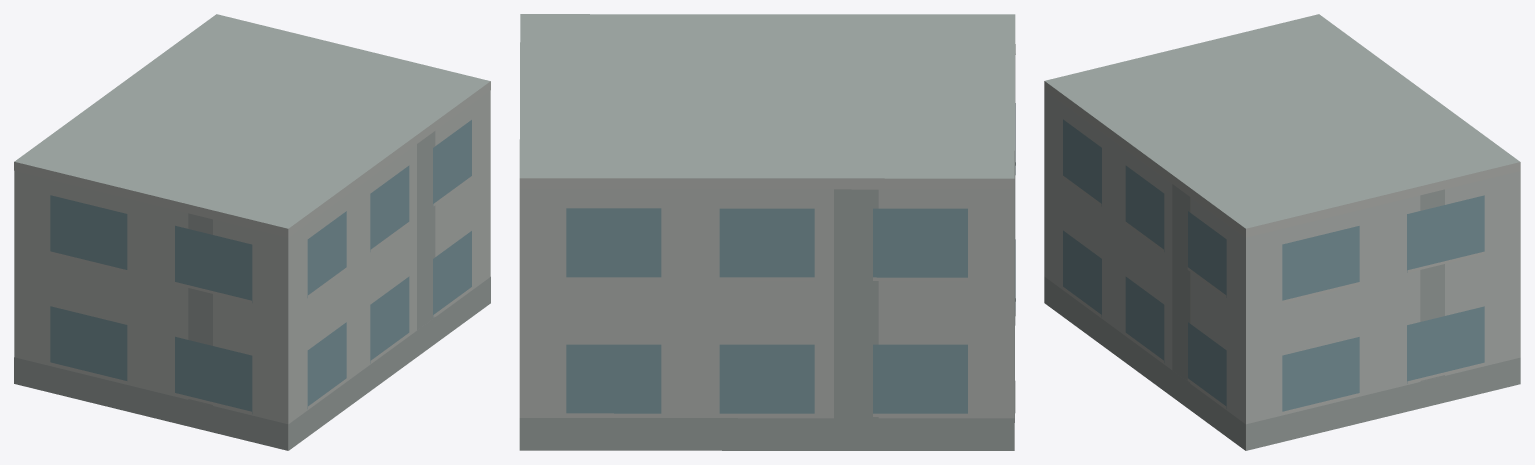
File: residential-adc4a5aa-8b27-4908-956a-49089783e18d.glb
3 renders of one model, left to right at view 1: azimuth 30°, elevation 25°; view 2: azimuth 150°, elevation 25°; view 3: azimuth 270°, elevation 25°, orthographic. The views are drawn at different scales.
Parts seen in each view (by area): view 1: residential-adc4a5aa-8b27-4908-956a-49089783e18d.tmp; view 2: residential-adc4a5aa-8b27-4908-956a-49089783e18d.tmp; view 3: residential-adc4a5aa-8b27-4908-956a-49089783e18d.tmp.
Part boxes in pixels (bbox=[...]): residential-adc4a5aa-8b27-4908-956a-49089783e18d.tmp: bbox=[14, 14, 490, 450]; residential-adc4a5aa-8b27-4908-956a-49089783e18d.tmp: bbox=[519, 14, 1015, 450]; residential-adc4a5aa-8b27-4908-956a-49089783e18d.tmp: bbox=[1044, 14, 1520, 450].
Size of the model in its own units: 12.45 by 6 by 11.67.
